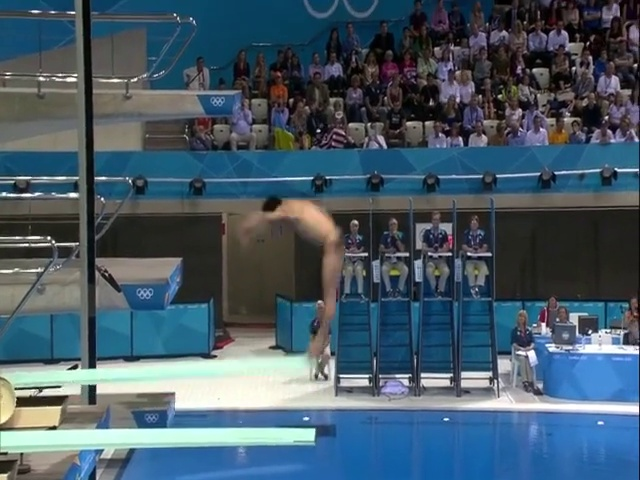diver: (229, 195, 345, 364)
